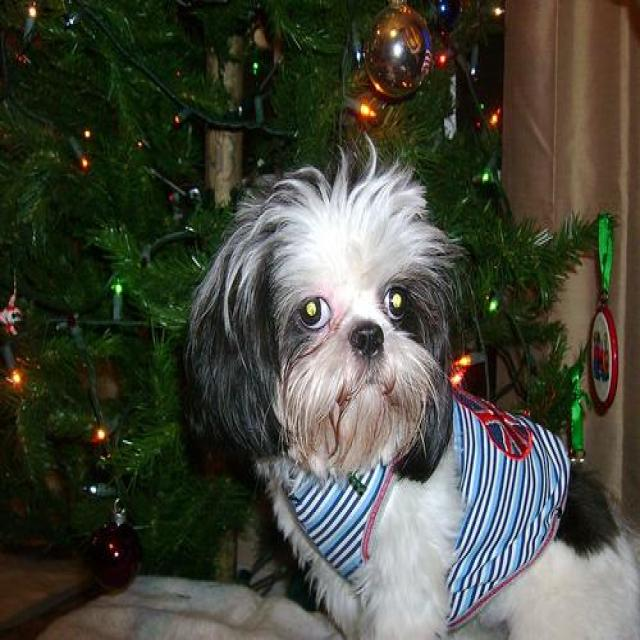shih_tzu: (183, 136, 639, 638)
